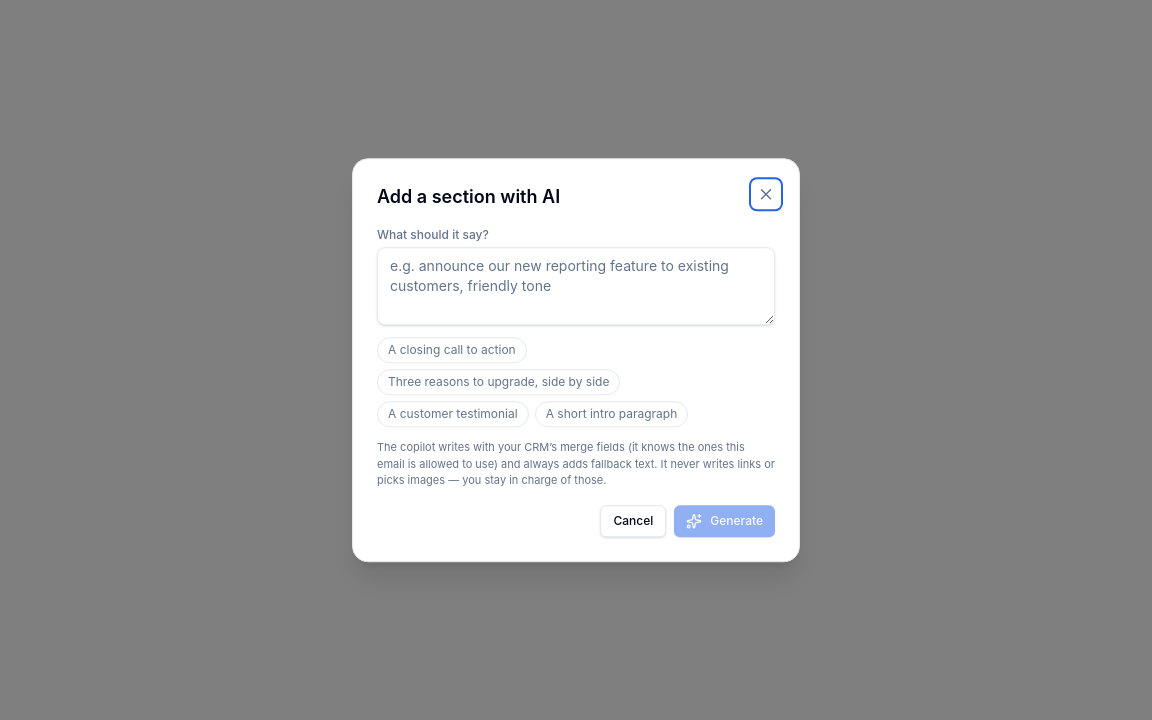
AICopilotModal › surfaces the server-side repairs so the copilot is never silently wrong
In the text box labelled "What should it say?": (576, 286) [377,247,775,325], type "a closing CTA"
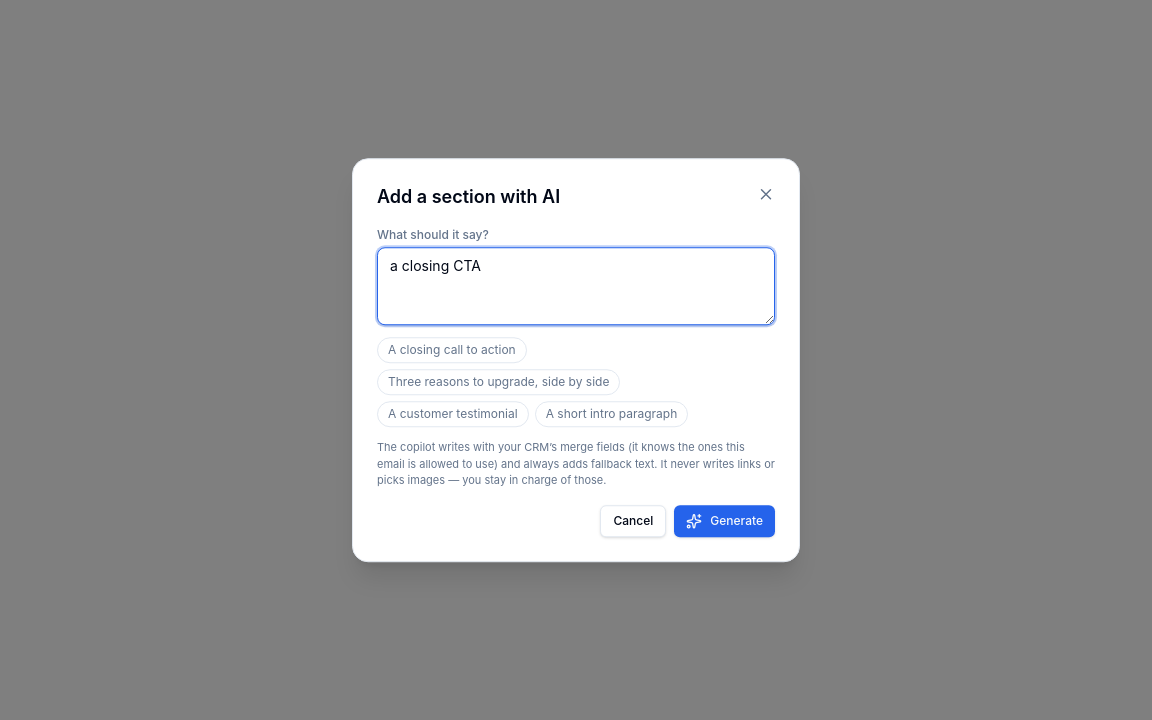
Click the button "Generate": (725, 521) [674,505,775,537]
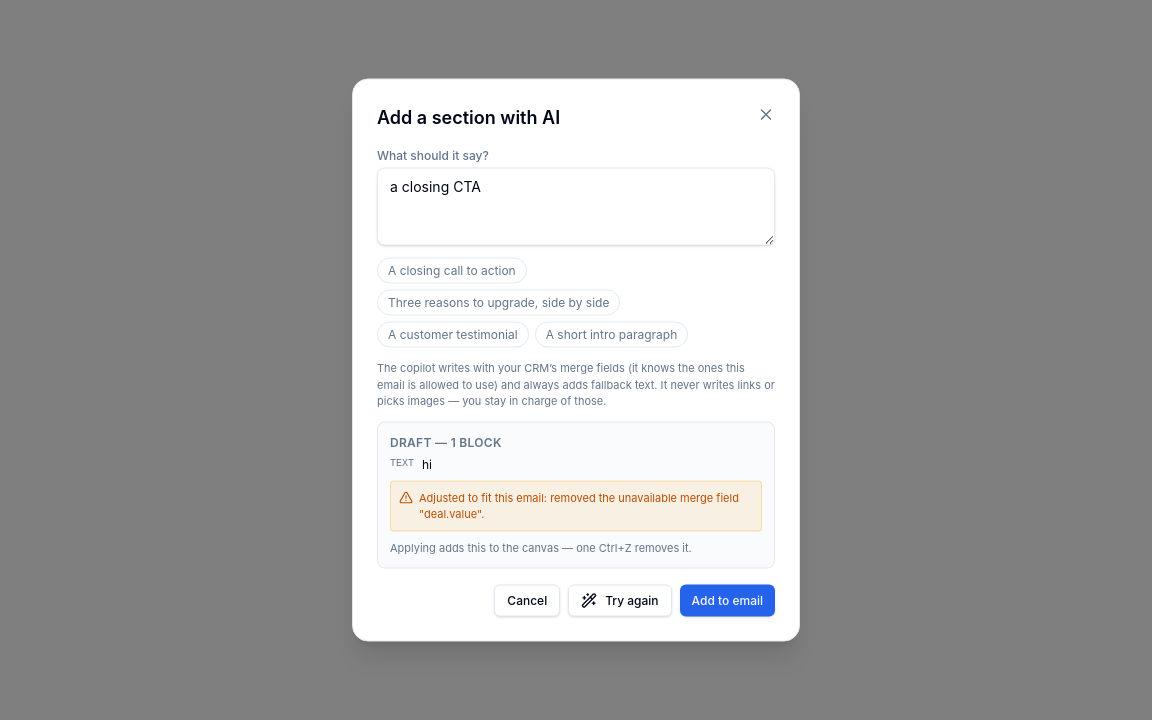
expect the text "removed the unavailable merge field" is shown: met, box [419,490,739,520]
